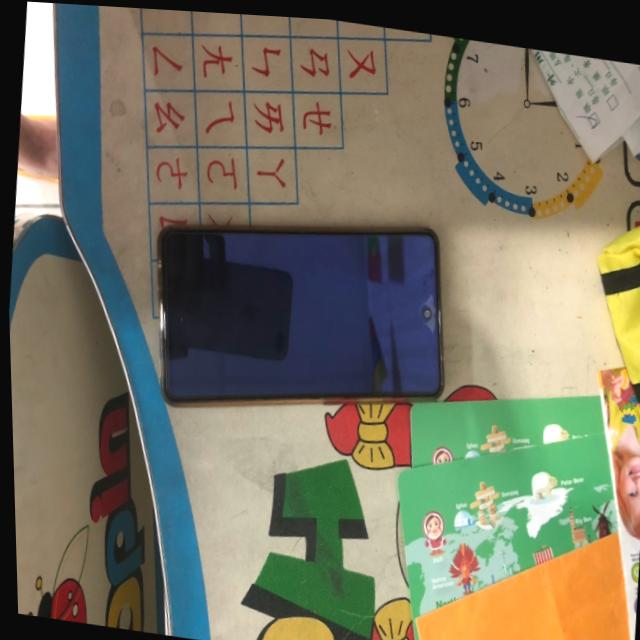Smartphone: (146, 205, 448, 419)
